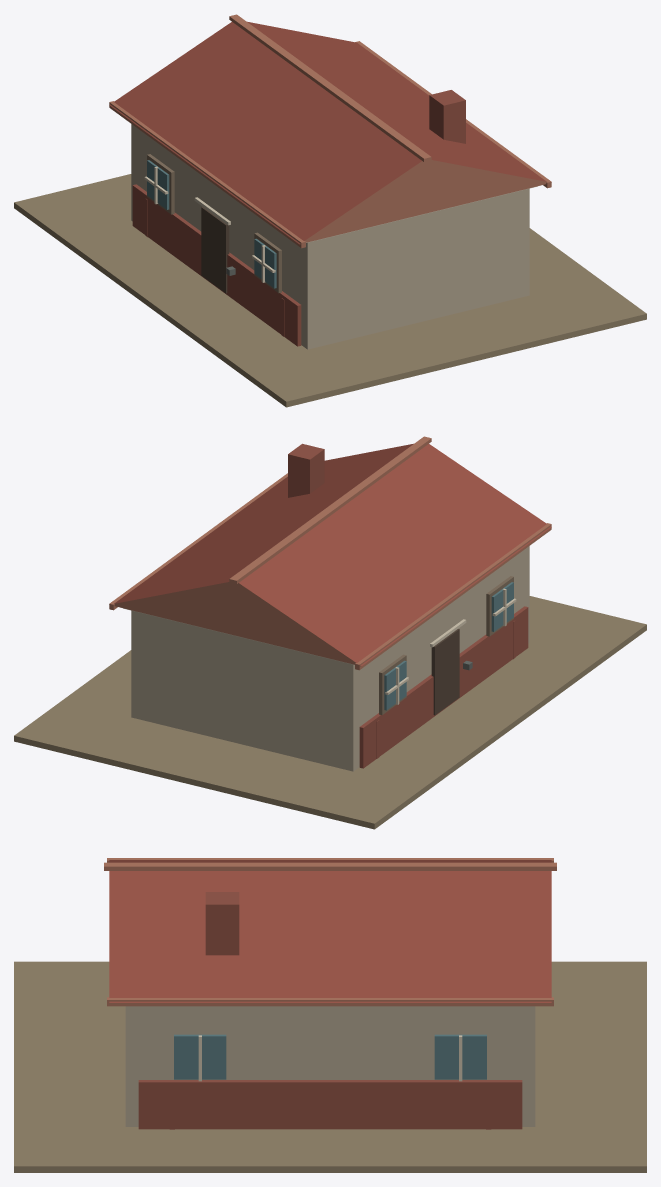
File: r1-farmhouse.glb
The picture shows the model from 3 angles, top to bottom: view 1: azimuth 30°, elevation 25°; view 2: azimuth 150°, elevation 25°; view 3: azimuth 270°, elevation 25°; orthographic projection. The views are drawn at different scales.
Visible parts, largest first — view 1: R1 Coast Farmhouse; view 2: R1 Coast Farmhouse; view 3: R1 Coast Farmhouse.
Boxes of the visible parts, left/top/right/bottom form: R1 Coast Farmhouse: left=14, top=14, right=646, bottom=407; R1 Coast Farmhouse: left=14, top=436, right=646, bottom=829; R1 Coast Farmhouse: left=14, top=858, right=646, bottom=1172.
Bounding box in the file's own units: 13 × 6.3 × 17.
